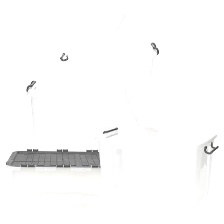plastic_box: (89, 79, 224, 217), (55, 1, 165, 117), (23, 71, 144, 159), (0, 141, 117, 221)
